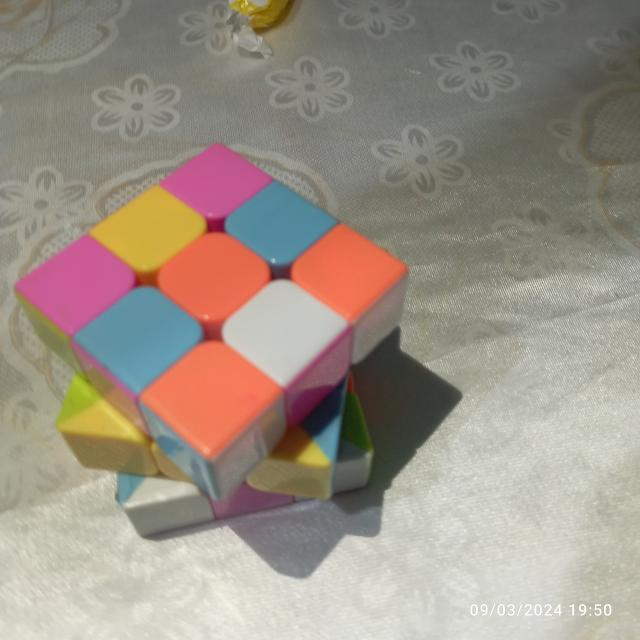Rub: (14, 138, 410, 540)
